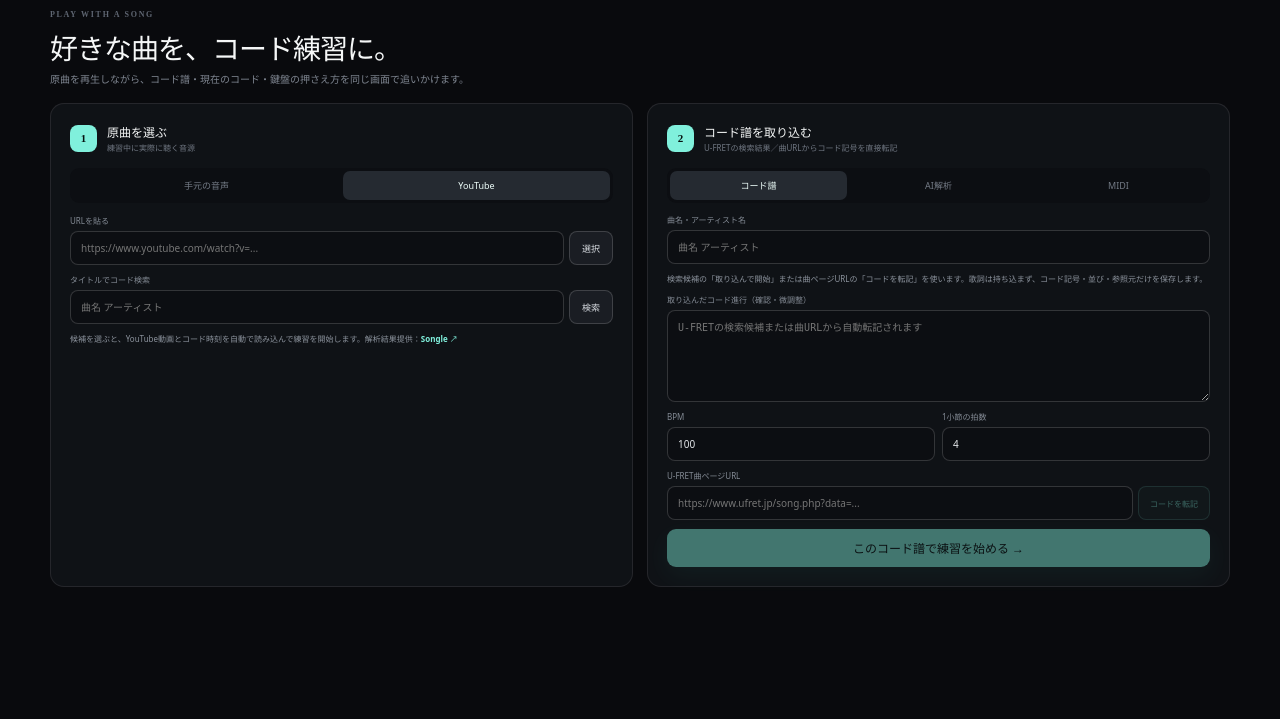
Test case: 曲で弾くセットアップ › U-FRET検索結果から手入力なしでコードを転記して開始する
Type "常夜燈 PEOPLE1" into the field labelled "タイトルでコード検索" at (317, 307), box [70,290,564,324]
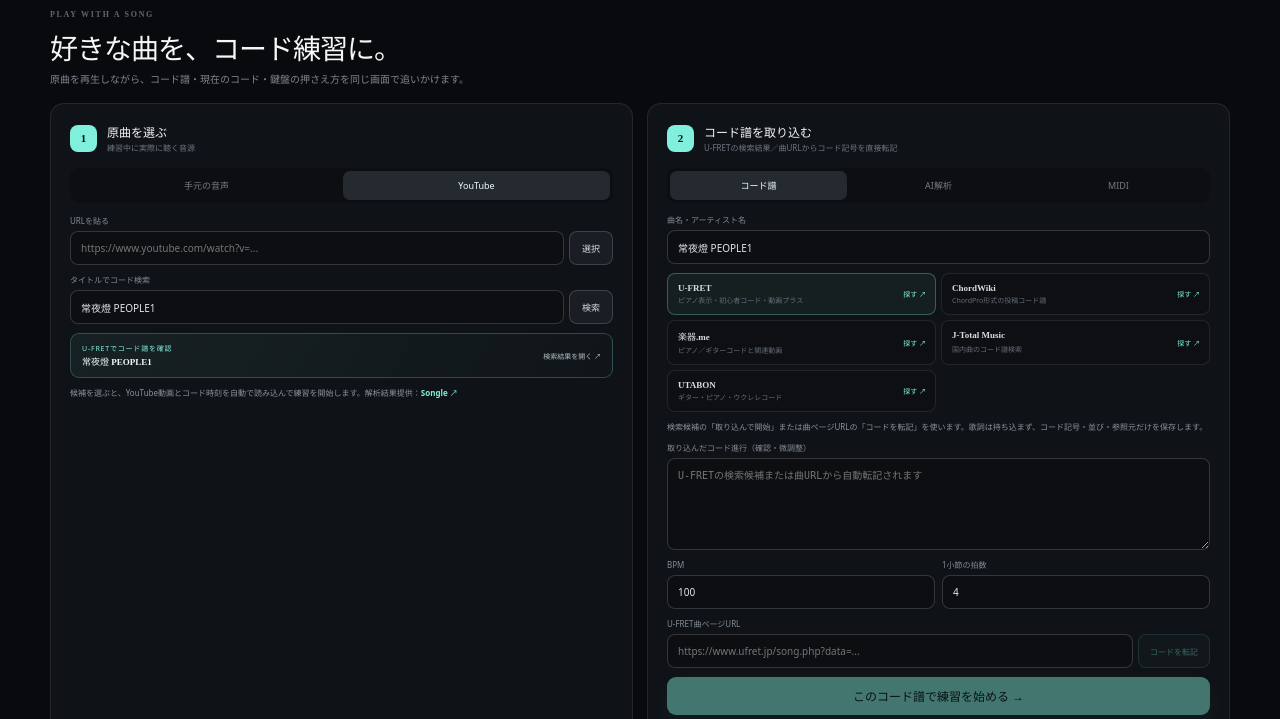
Click the button "検索" at (591, 307), box [569,290,613,324]
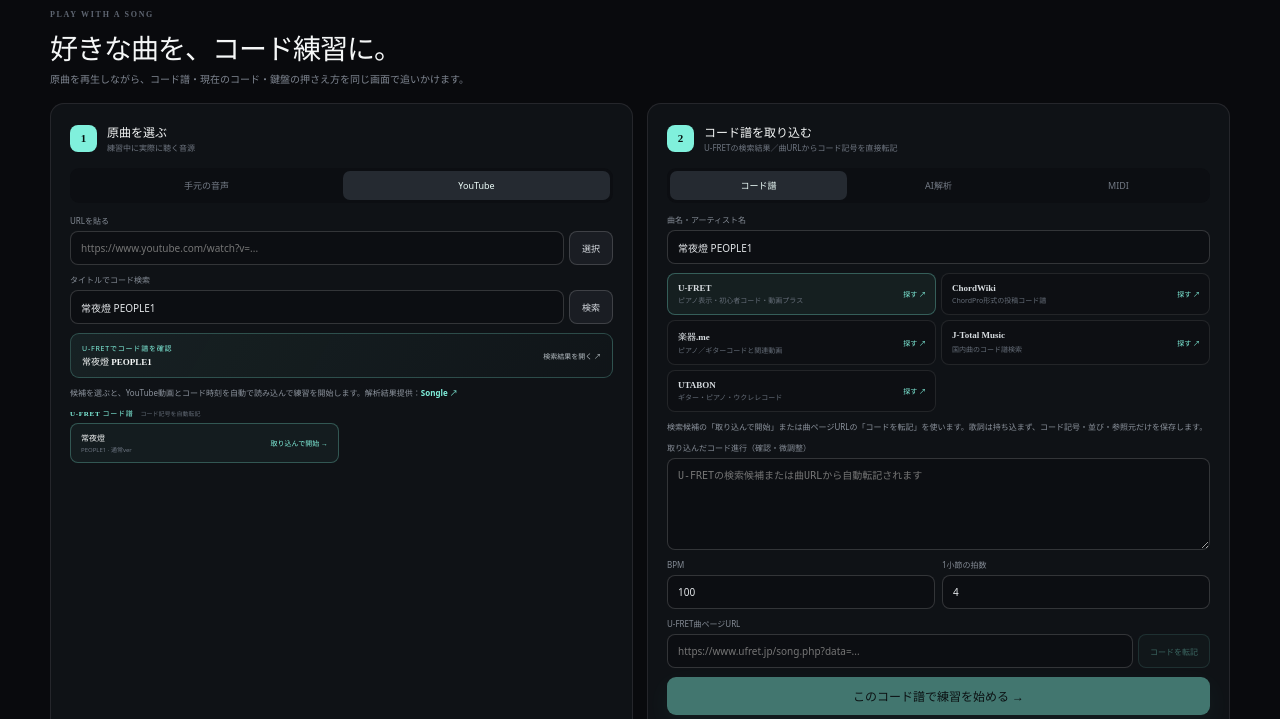
Click the button "常夜燈 PEOPLE1 · 通常ver 取り込んで開始 →" at (299, 444), box [70,423,339,463]
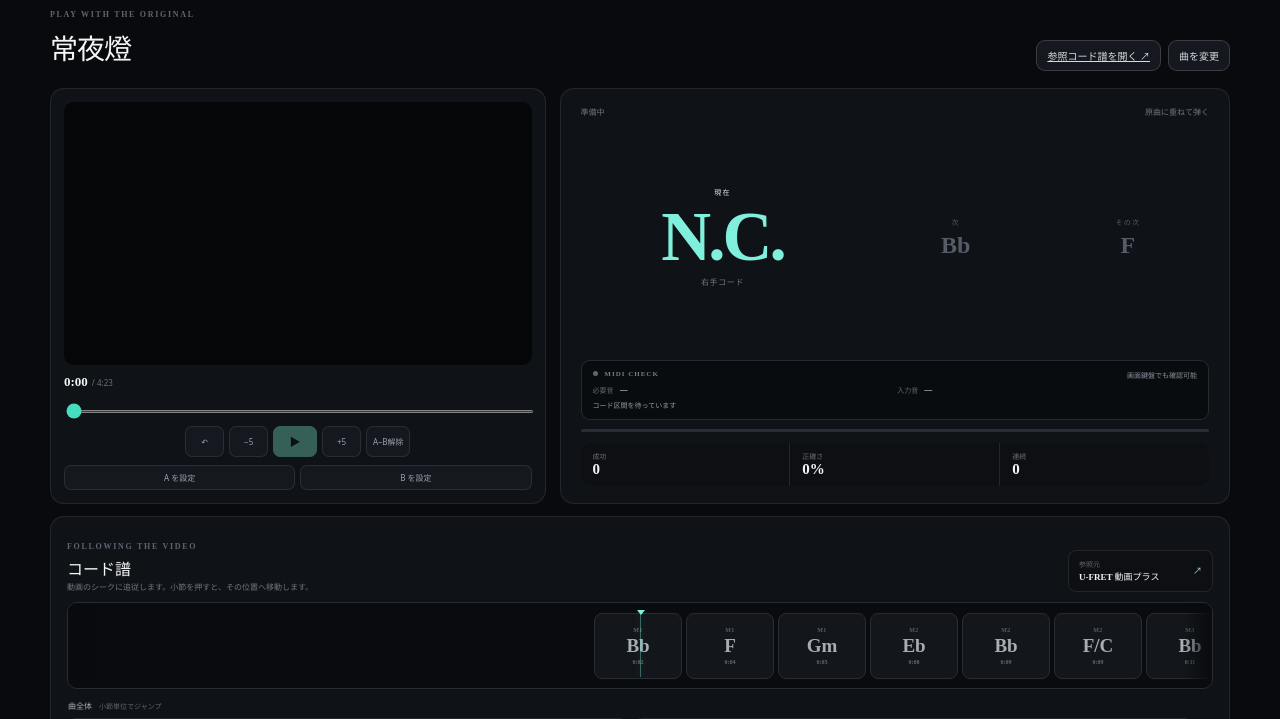
Check: the heading "常夜燈" is shown, box [50,34,131,65]
Check: the element named "動画追従コード列" shows "Bb", box [594,613,682,679]
